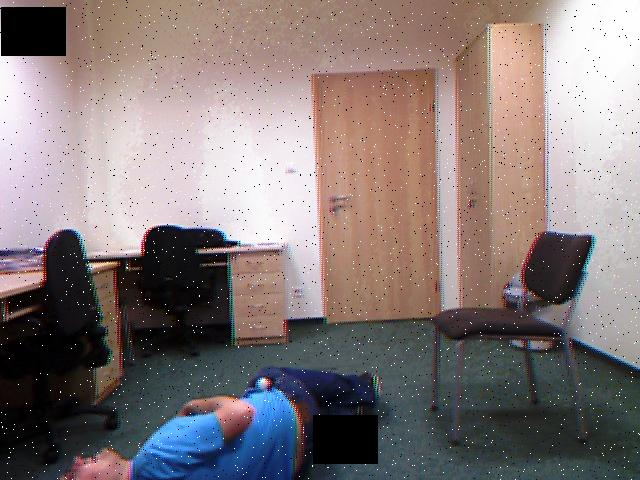fall: (51, 350, 405, 480)
